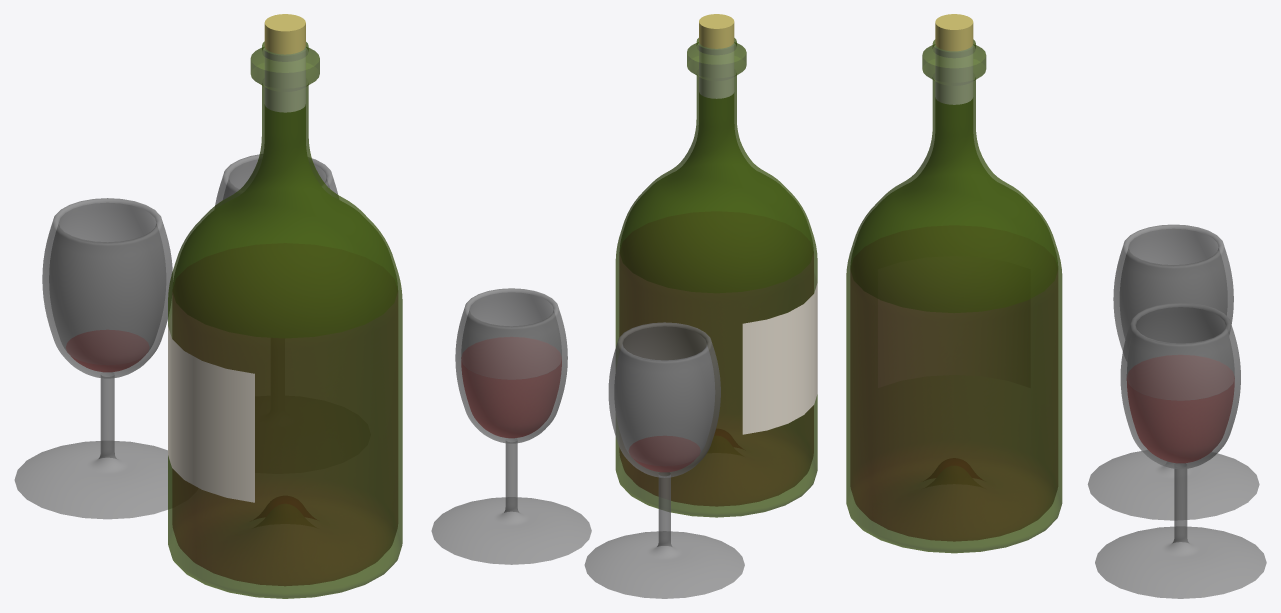
3 renders of one model, left to right at view 1: azimuth 30°, elevation 25°; view 2: azimuth 150°, elevation 25°; view 3: azimuth 270°, elevation 25°, orthographic. The views are drawn at different scales.
Visible parts, largest first — view 1: Mesh3 Group3 Wine_Bottle___Glasses1 Model, Mesh2 Group2 Wine_Bottle___Glasses1 Model, Mesh1 Group1 Wine_Bottle___Glasses1 Model; view 2: Mesh3 Group3 Wine_Bottle___Glasses1 Model, Mesh1 Group1 Wine_Bottle___Glasses1 Model, Mesh2 Group2 Wine_Bottle___Glasses1 Model; view 3: Mesh3 Group3 Wine_Bottle___Glasses1 Model, Mesh1 Group1 Wine_Bottle___Glasses1 Model, Mesh2 Group2 Wine_Bottle___Glasses1 Model.
Part boxes in pixels (x1=…): Mesh3 Group3 Wine_Bottle___Glasses1 Model: x1=168, y1=14, x2=402, y2=598; Mesh2 Group2 Wine_Bottle___Glasses1 Model: x1=14, y1=198, x2=172, y2=519; Mesh1 Group1 Wine_Bottle___Glasses1 Model: x1=215, y1=154, x2=338, y2=208; Mesh3 Group3 Wine_Bottle___Glasses1 Model: x1=615, y1=14, x2=817, y2=517; Mesh1 Group1 Wine_Bottle___Glasses1 Model: x1=431, y1=288, x2=591, y2=564; Mesh2 Group2 Wine_Bottle___Glasses1 Model: x1=584, y1=322, x2=744, y2=598; Mesh3 Group3 Wine_Bottle___Glasses1 Model: x1=846, y1=14, x2=1062, y2=553; Mesh1 Group1 Wine_Bottle___Glasses1 Model: x1=1095, y1=302, x2=1266, y2=598; Mesh2 Group2 Wine_Bottle___Glasses1 Model: x1=1087, y1=224, x2=1259, y2=520.
Bounding box in the file's own units: 448 × 677 × 527.
